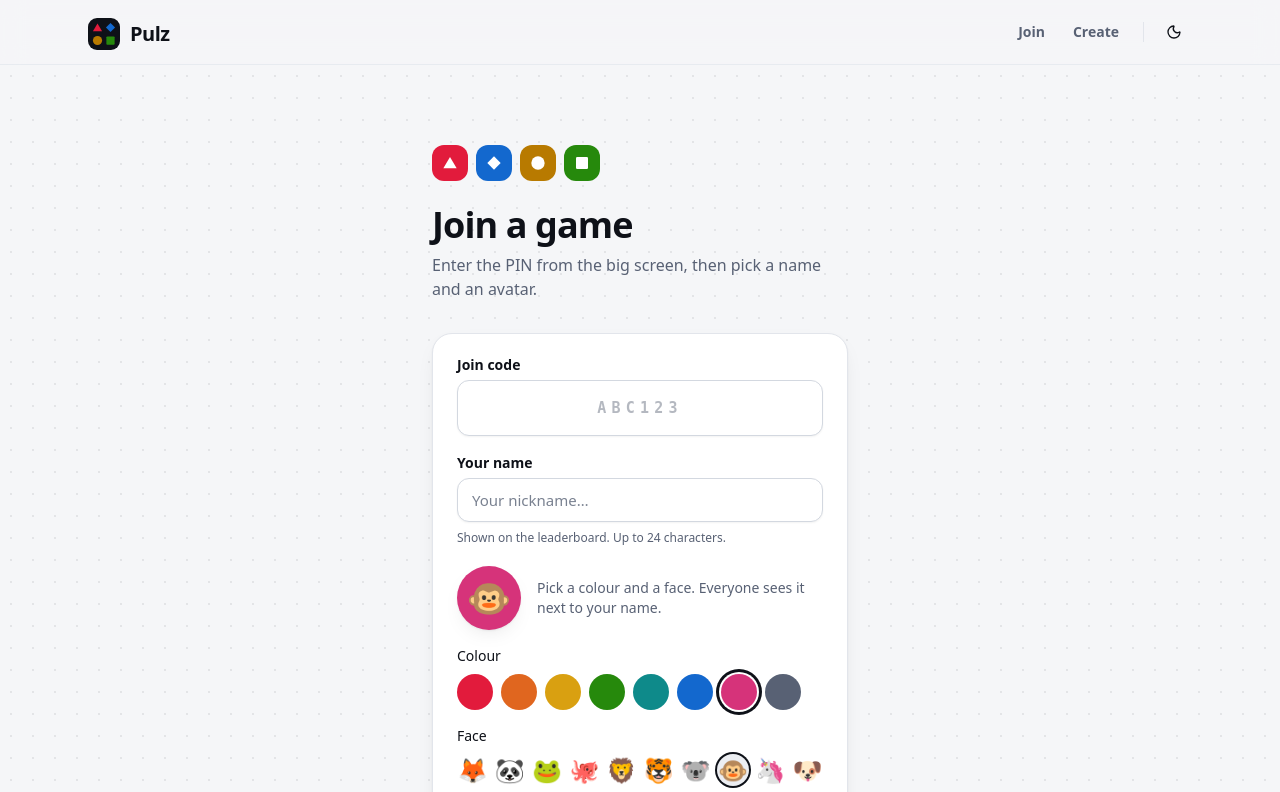
Test: JoinPage › shows the server error on join:error
Step 1. Type "ZZZZZZ" into the field labelled "Join code" → (640, 408), box [457,380,823,436]
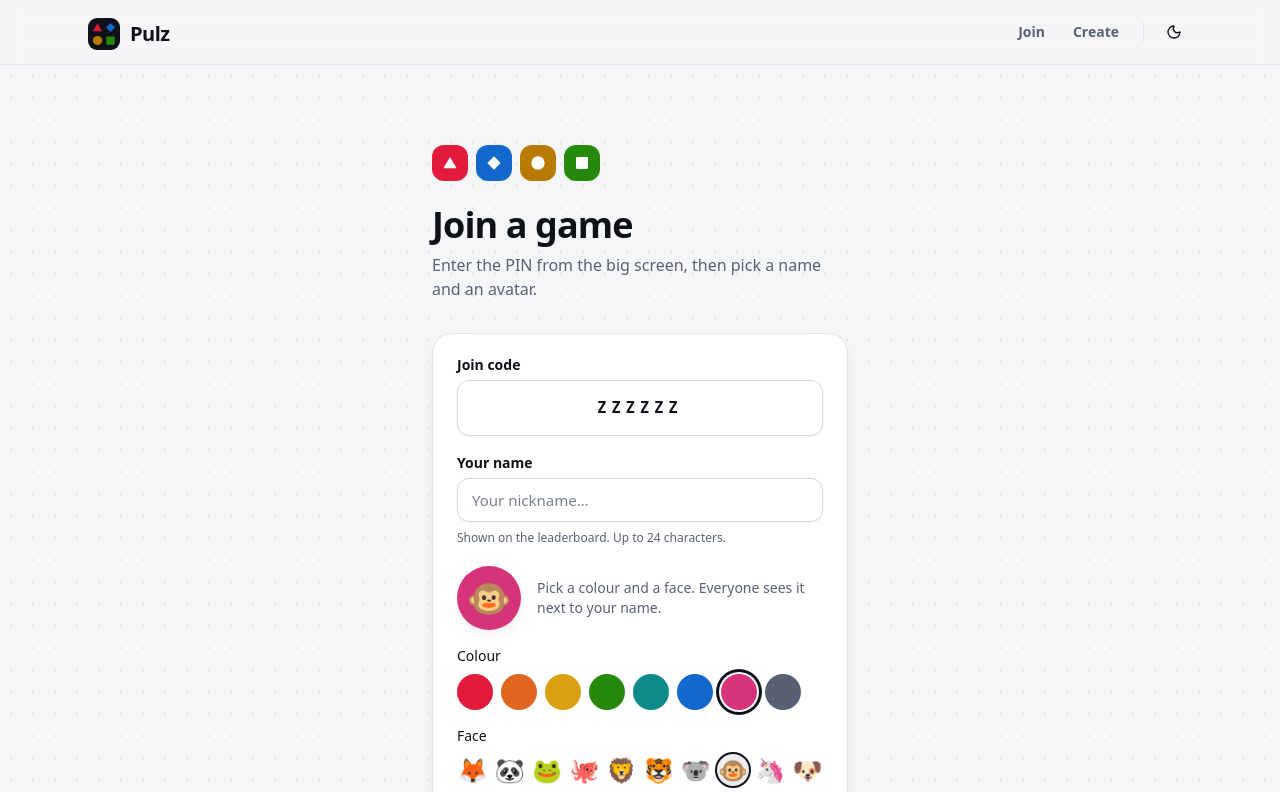
Step 2. Type "Bob" into the field labelled "Your name" → (640, 500), box [457,478,823,522]
(page scrolled)
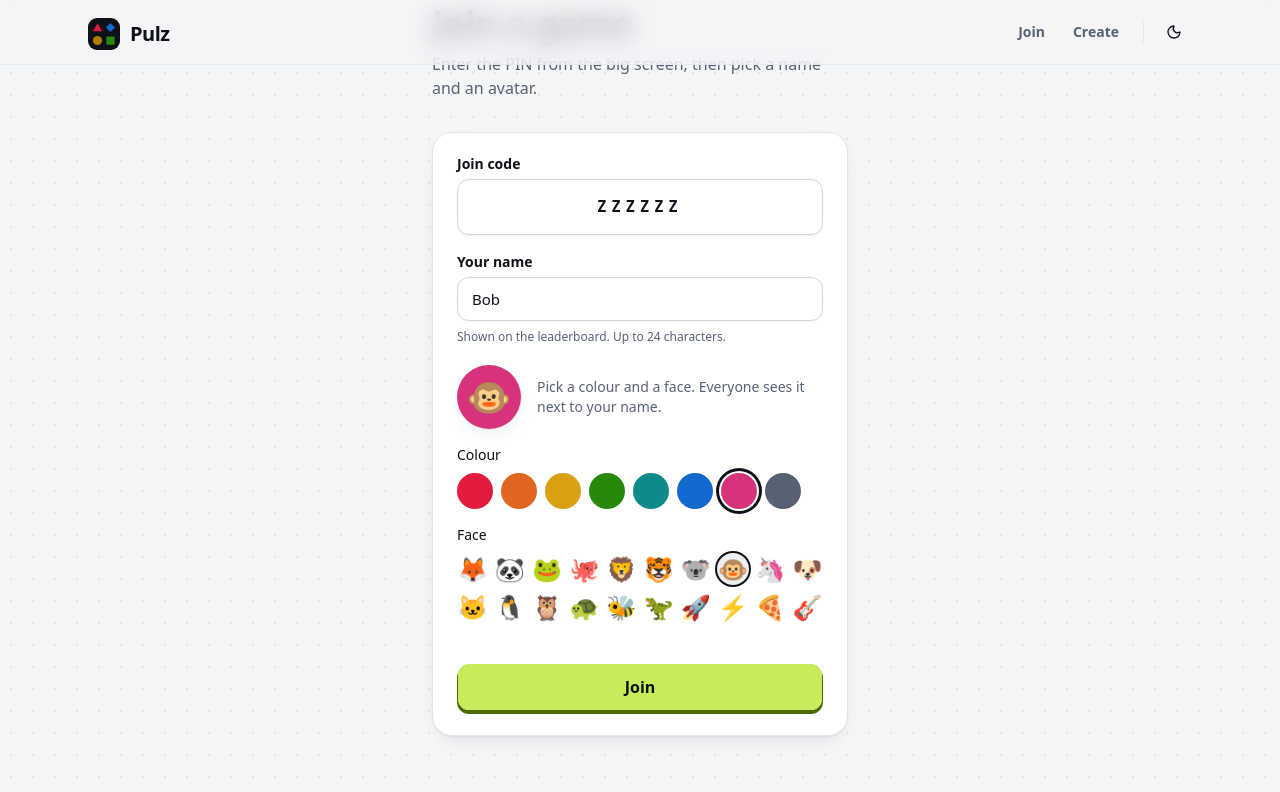
Step 3. Click the button "Join" → (640, 687), box [457,663,823,711]
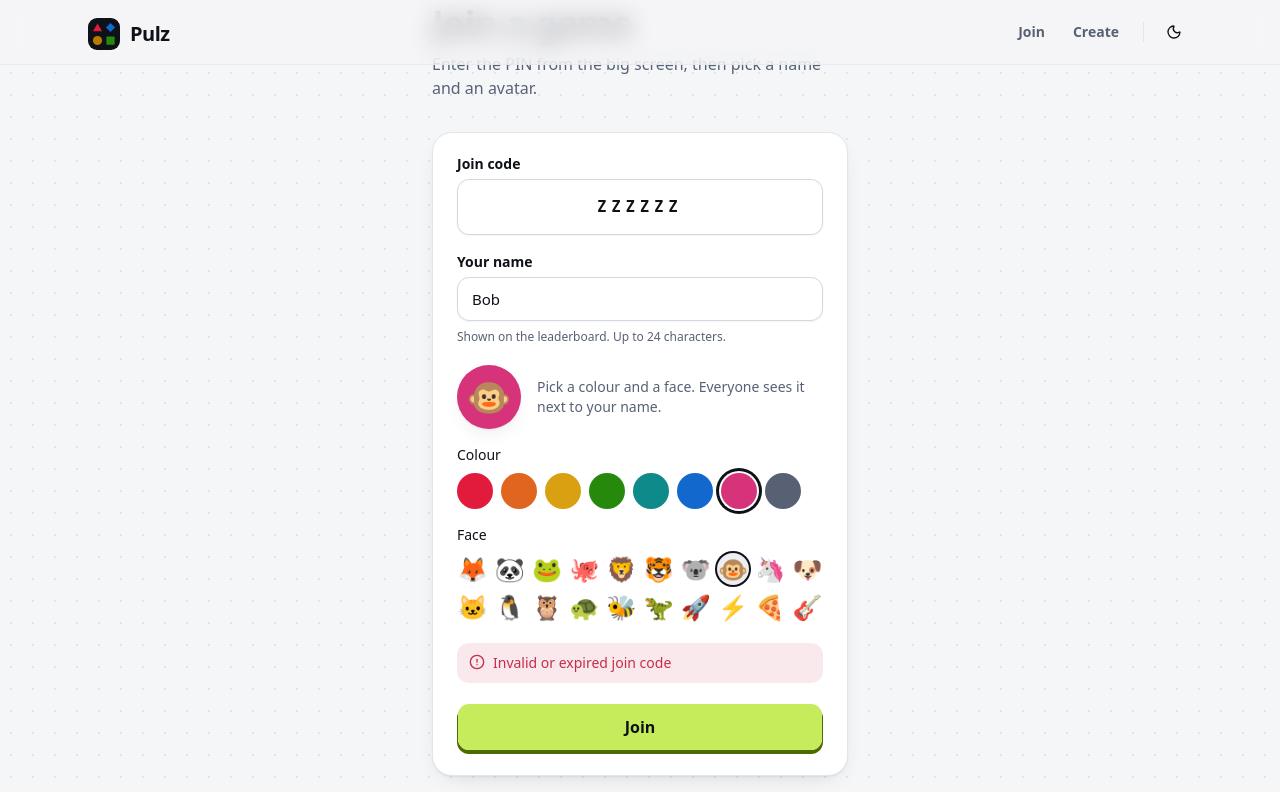
Now the text "Invalid or expired join code" is shown, box [457,643,823,683]
